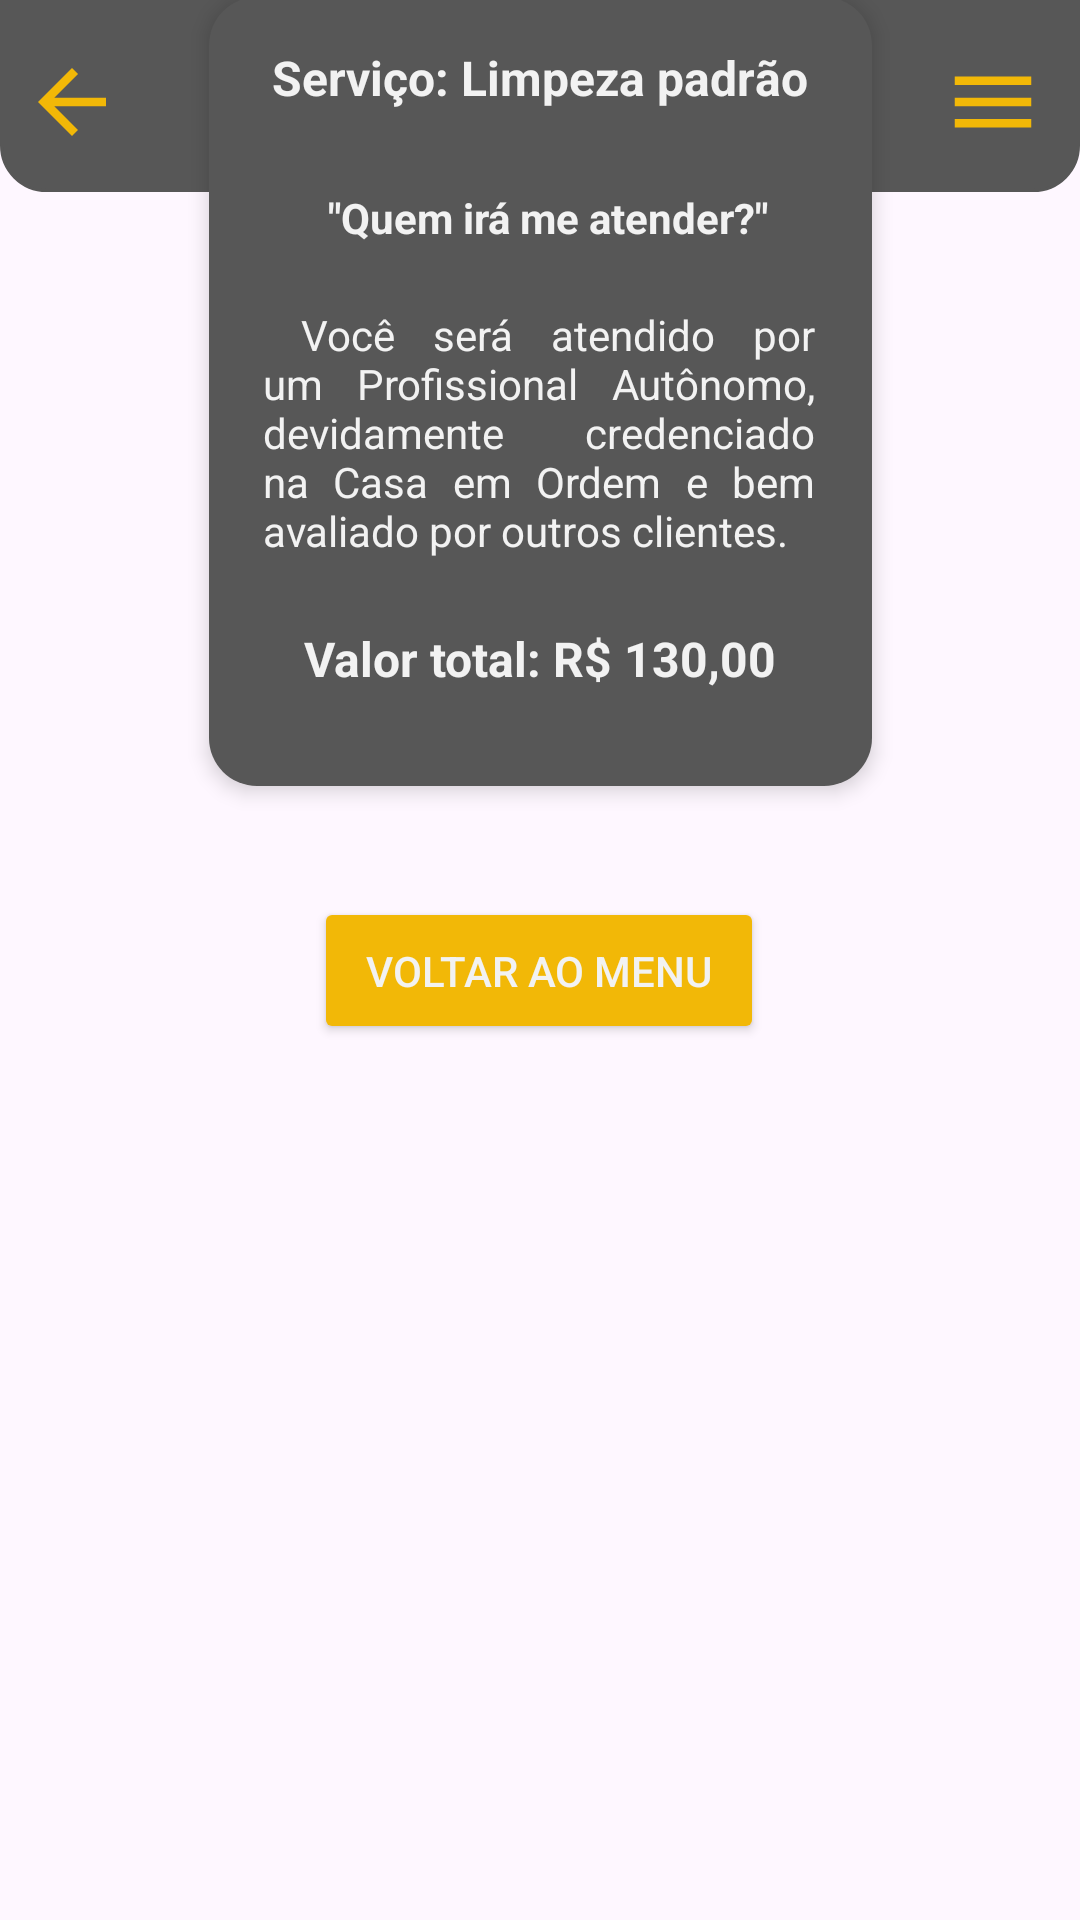

Named icons in this screenshot (1080*1920) and their bounding boxes, box(x1, y1, x2, y2):
arrow back: box(38, 68, 106, 136)
menu: box(954, 76, 1032, 128)
